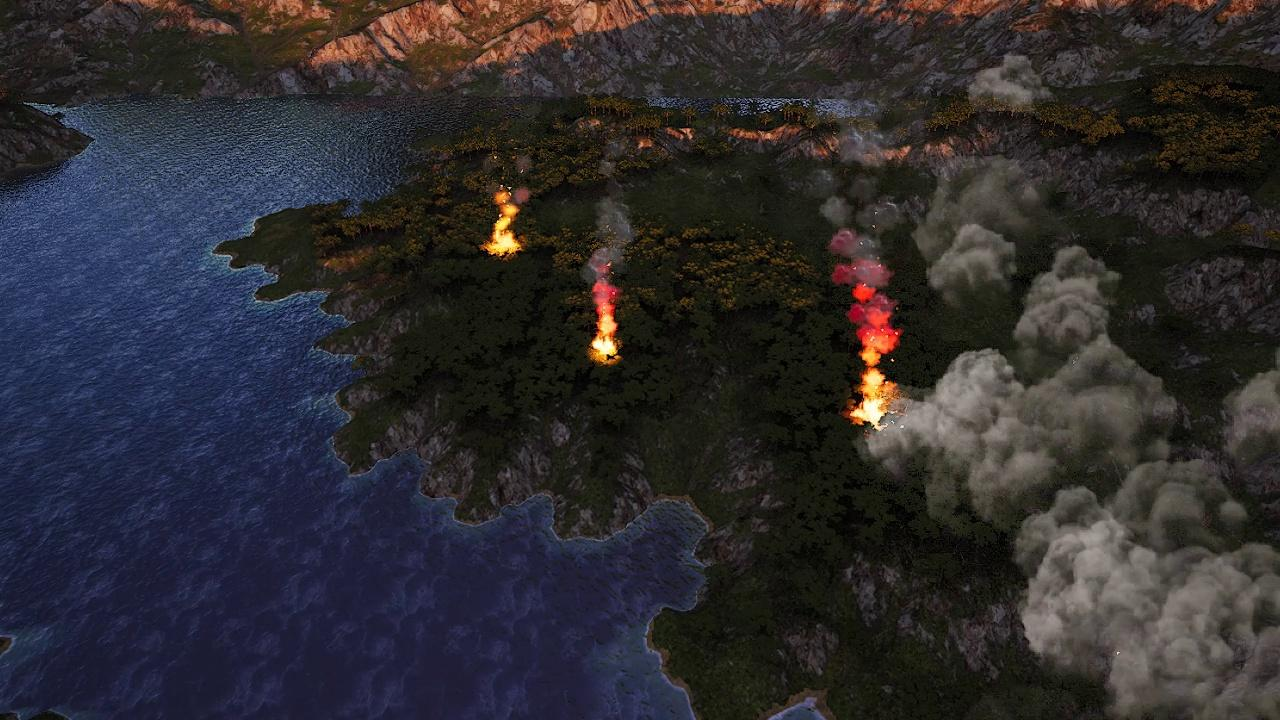fire: (587, 284, 624, 359), (847, 375, 894, 428), (488, 189, 525, 254)
smoke: (821, 98, 1280, 720), (579, 138, 630, 320), (964, 50, 1047, 144)
